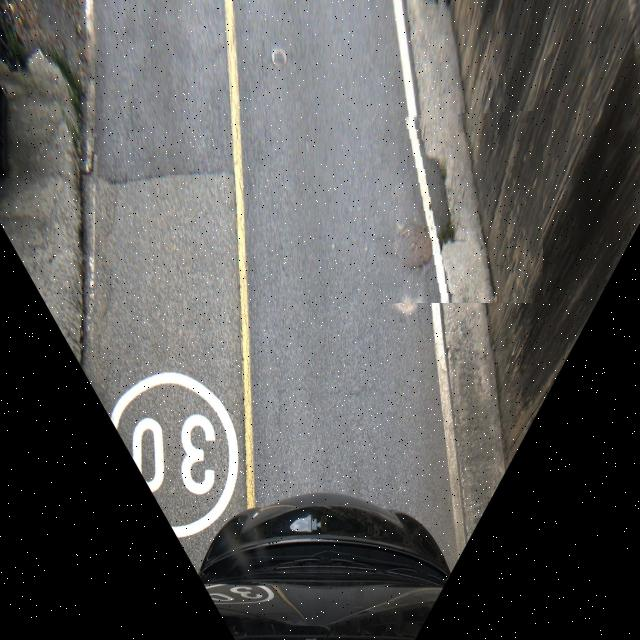30limit: (381, 113, 543, 303)
